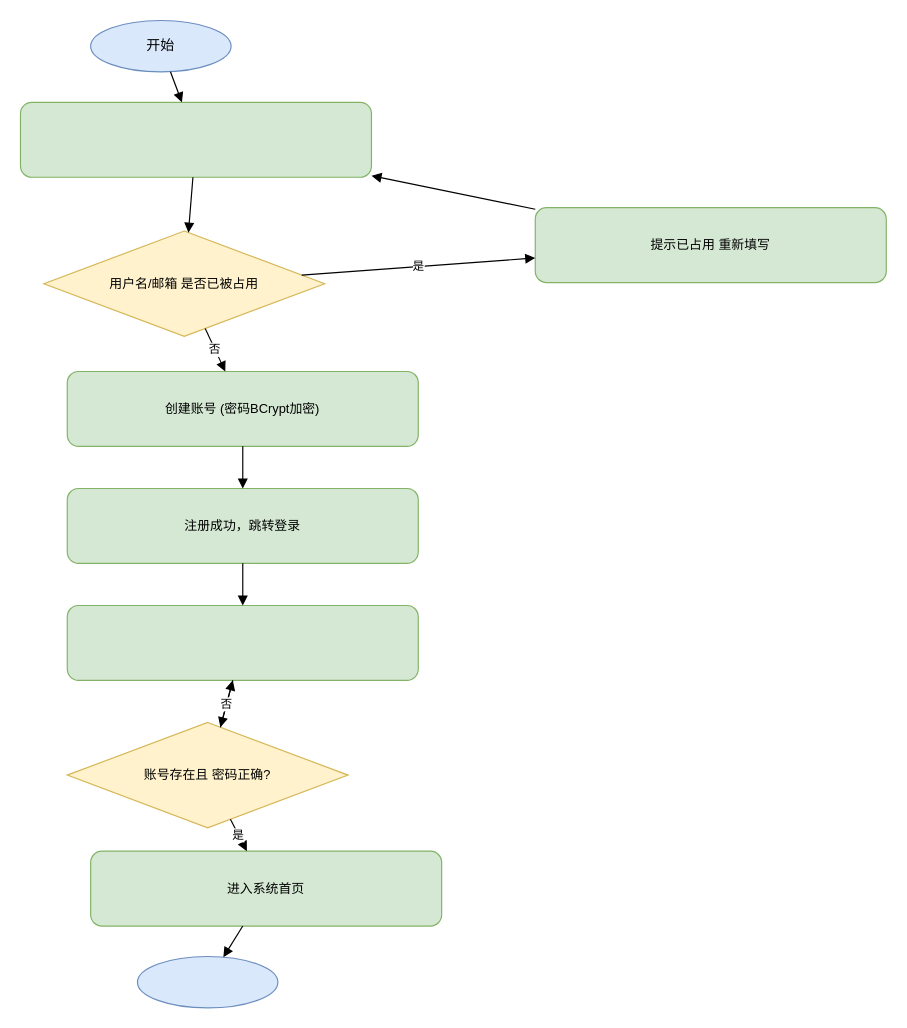
The diagram is 907 pixels wide and 1028 high, and some of its shapes have lost their labels. The box of each missing label's shape, as (x1, y1, x2, y2) in pixels:
填写注册信息 (用户名/校园邮箱/密码): (19, 101, 371, 177)
结束: (136, 955, 278, 1008)
输入账号密码登录: (66, 604, 418, 680)
